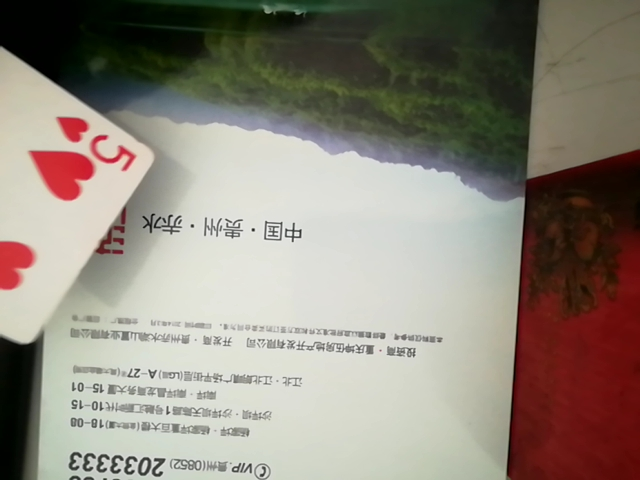hx 5: (0, 3, 157, 361)
